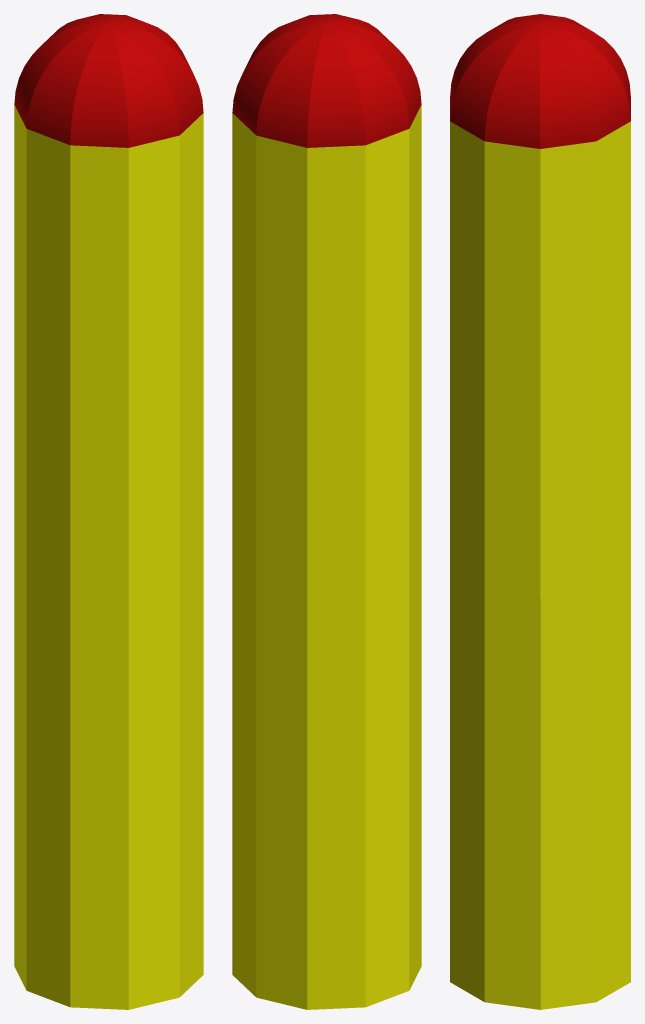
File: landward-ruler.glb
3 views of the same model, side by side, from view 1: azimuth 30°, elevation 25°; view 2: azimuth 150°, elevation 25°; view 3: azimuth 270°, elevation 25° (orthographic).
Parts seen in each view (by area): view 1: ruler_marker, pSphere1; view 2: ruler_marker, pSphere1; view 3: ruler_marker, pSphere1.
Boxes of the visible parts, x1,y1,x2,y2 form: ruler_marker: (14,105,203,1009); pSphere1: (14,14,203,147); ruler_marker: (232,105,421,1009); pSphere1: (232,14,421,147); ruler_marker: (450,121,630,1009); pSphere1: (450,14,630,148).
Bounding box in the file's own units: 0.2 × 1.1 × 0.1902.
